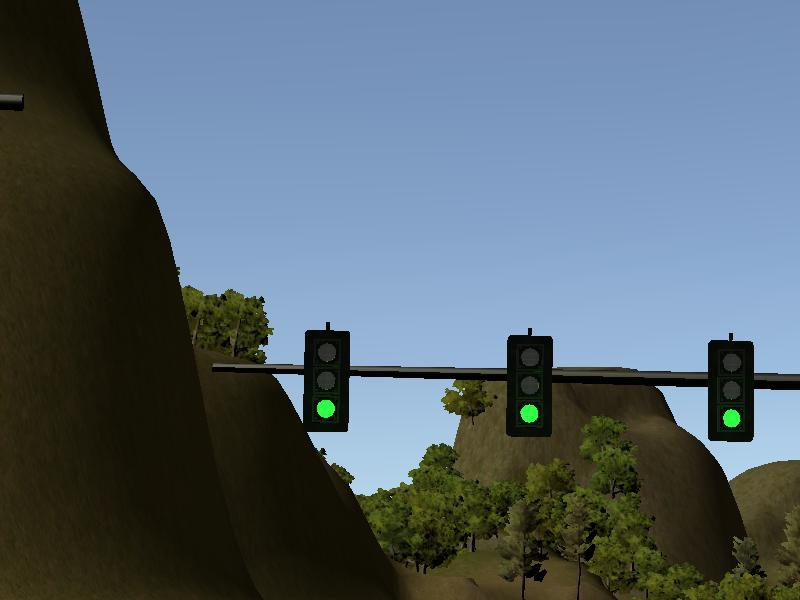Green: (507, 334, 551, 436), (708, 342, 753, 441), (305, 331, 348, 431)
